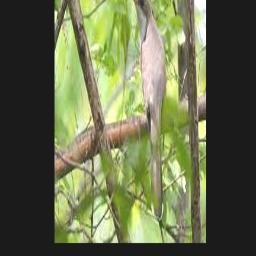Cuckoo: (127, 0, 167, 219)
